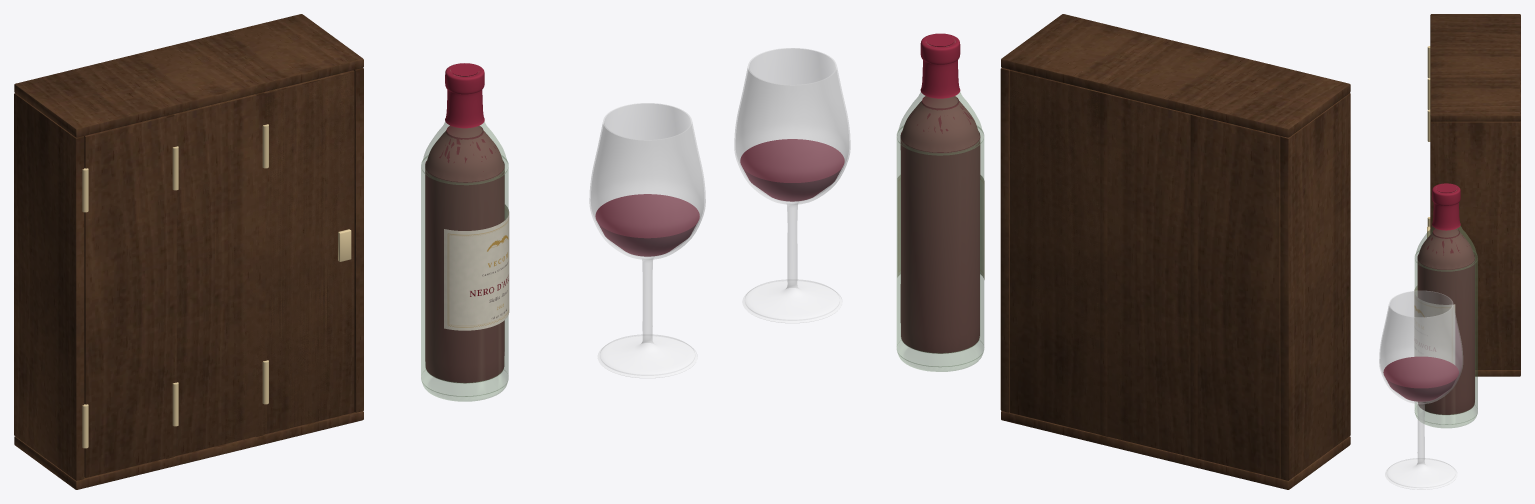
Rendered from wein.glb.
3 views of the same model, side by side, from view 1: azimuth 30°, elevation 25°; view 2: azimuth 150°, elevation 25°; view 3: azimuth 270°, elevation 25° (orthographic). The views are drawn at different scales.
Visible parts, largest first — view 1: kiste2_tuer, kiste3_tuer, kiste3_links, weinglas, flasche_glas, kiste3_deckel, kiste_tuer, flasche_inhalt, flasche_etikett, kiste_deckel, weinglas_wein, kiste3_boden (+2 smaller); view 2: kiste2_rueck, kiste3_rueck, kiste3_links, flasche_glas, flasche_inhalt, weinglas, kiste3_deckel, kiste_deckel, weinglas_wein, kiste3_boden, kiste2_rechts, kiste2_links (+4 smaller); view 3: kiste2_rechts, weinglas, flasche_glas, flasche_inhalt, kiste3_deckel, kiste_deckel, weinglas_wein, flasche_etikett, flasche_kapsel, kiste2_deckel, kiste2_boden.
Boxes of the visible parts, x1,y1,x2,y2 form: kiste2_tuer: (176, 70, 353, 455); kiste3_tuer: (84, 70, 354, 477); kiste3_links: (14, 93, 84, 480); weinglas: (589, 103, 705, 377); flasche_glas: (421, 70, 508, 401); kiste3_deckel: (14, 39, 363, 137); kiste_tuer: (266, 71, 354, 433); flasche_inhalt: (425, 126, 504, 382); flasche_etikett: (444, 204, 509, 330); kiste_deckel: (196, 14, 362, 84); weinglas_wein: (595, 194, 699, 256); kiste3_boden: (14, 411, 363, 489); kiste2_rueck: (1009, 70, 1189, 455); kiste3_rueck: (1010, 70, 1280, 478); kiste3_links: (1280, 93, 1350, 480); flasche_glas: (896, 41, 984, 371); flasche_inhalt: (900, 96, 980, 353); weinglas: (734, 48, 850, 322); kiste3_deckel: (1001, 39, 1350, 137); kiste_deckel: (1002, 14, 1167, 84); weinglas_wein: (740, 139, 844, 201); kiste3_boden: (1001, 411, 1350, 489); kiste2_rechts: (1000, 68, 1009, 412); kiste2_links: (1190, 114, 1198, 458); kiste2_rechts: (1430, 121, 1520, 369); weinglas: (1379, 291, 1462, 489); flasche_glas: (1414, 190, 1477, 427); flasche_inhalt: (1417, 229, 1474, 414); kiste3_deckel: (1430, 14, 1520, 121); kiste_deckel: (1431, 77, 1519, 116); weinglas_wein: (1383, 356, 1458, 401); flasche_etikett: (1414, 286, 1455, 364); flasche_kapsel: (1432, 183, 1460, 230); kiste2_deckel: (1430, 115, 1520, 121); kiste2_boden: (1475, 370, 1520, 376).
Size of the model in its own units: 0.6143 by 0.3451 by 0.1693.
10 materials, 3 textured.
